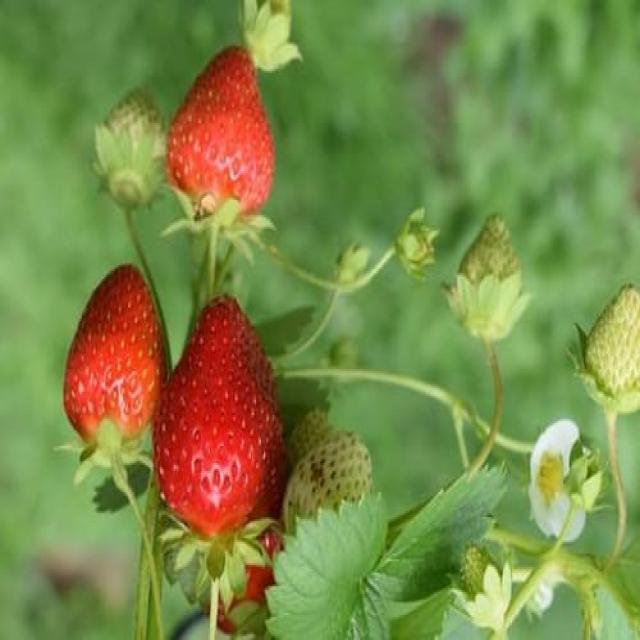Strawberry: (153, 295, 291, 537), (165, 46, 278, 215), (64, 266, 168, 446), (288, 407, 371, 522), (457, 214, 522, 340), (96, 86, 166, 202), (584, 285, 640, 408), (463, 546, 510, 627)
